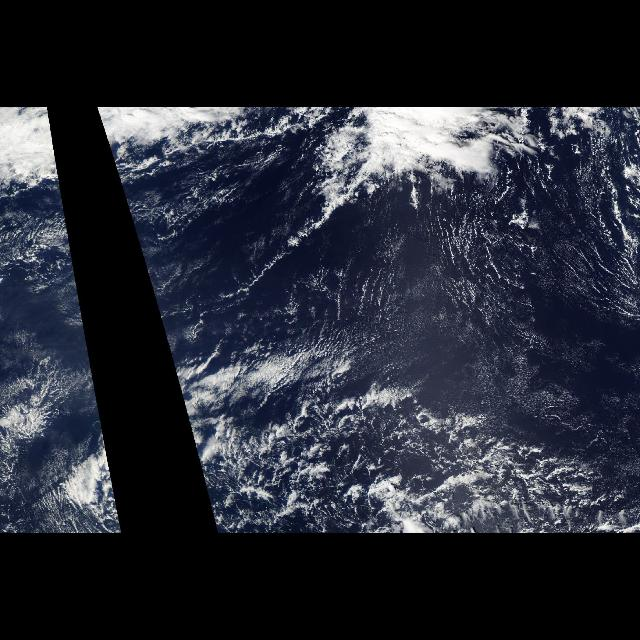Gravel: (220, 225, 626, 533)
Sugar: (271, 212, 639, 452)
